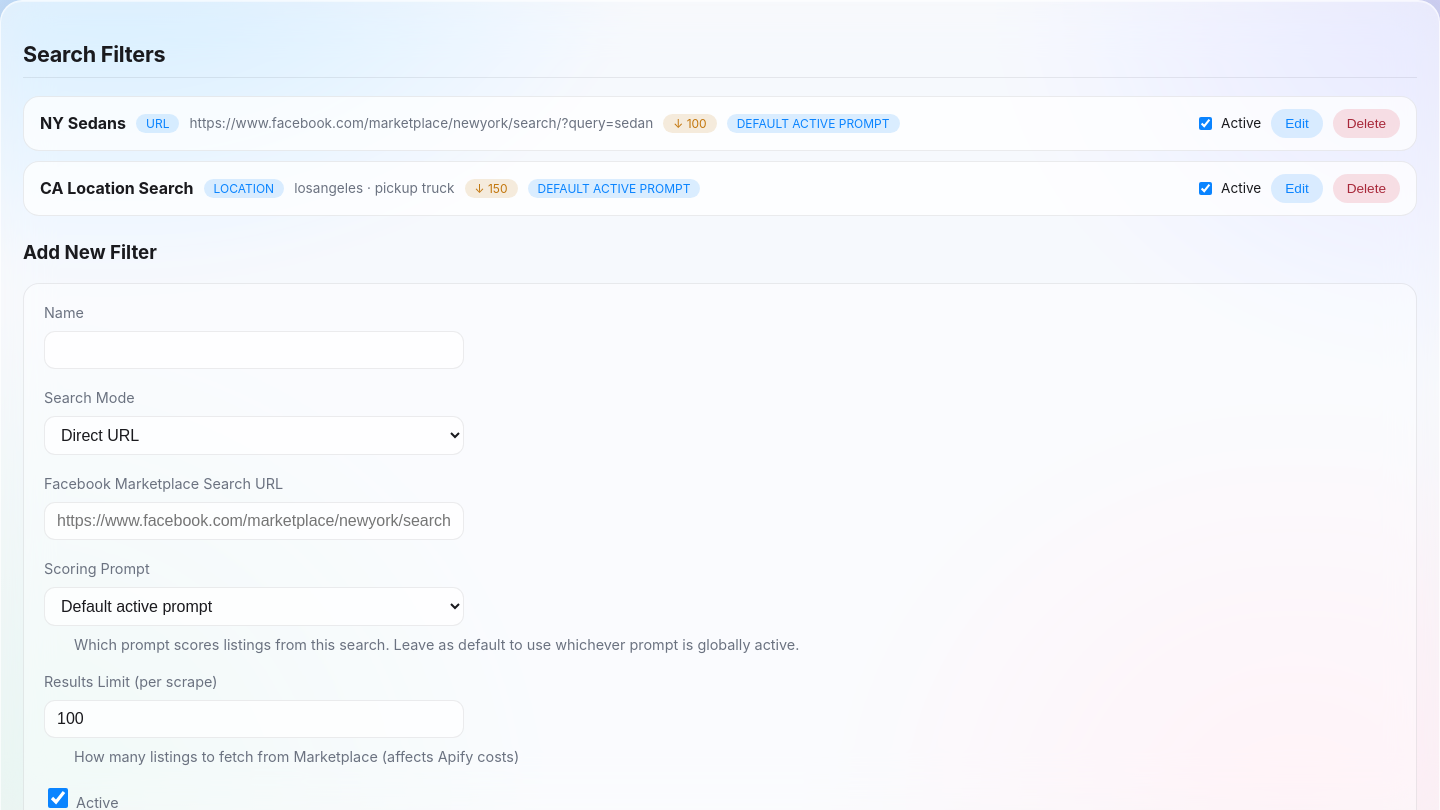
Test case: SearchFiltersTab › shows cancel button only when editing
Expected: the text "NY Sedans" is shown, [40,113,126,133]
Expected: the button "Cancel" is not shown
Click the button "Edit" in the row of "100" at point(1297, 123), box [1271,109,1323,138]
(page scrolled)
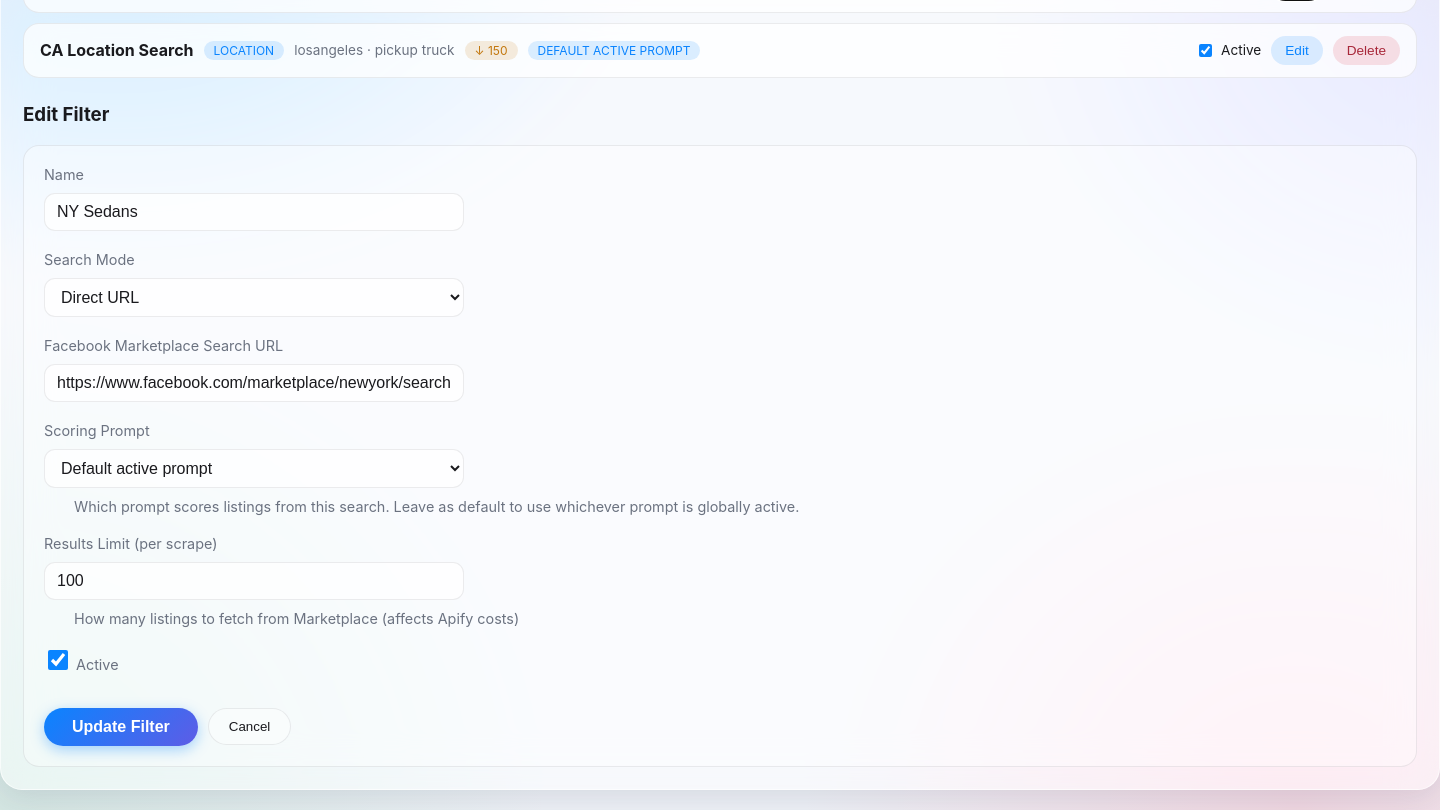
Expected: the button "Cancel" is shown, [208,708,291,745]
